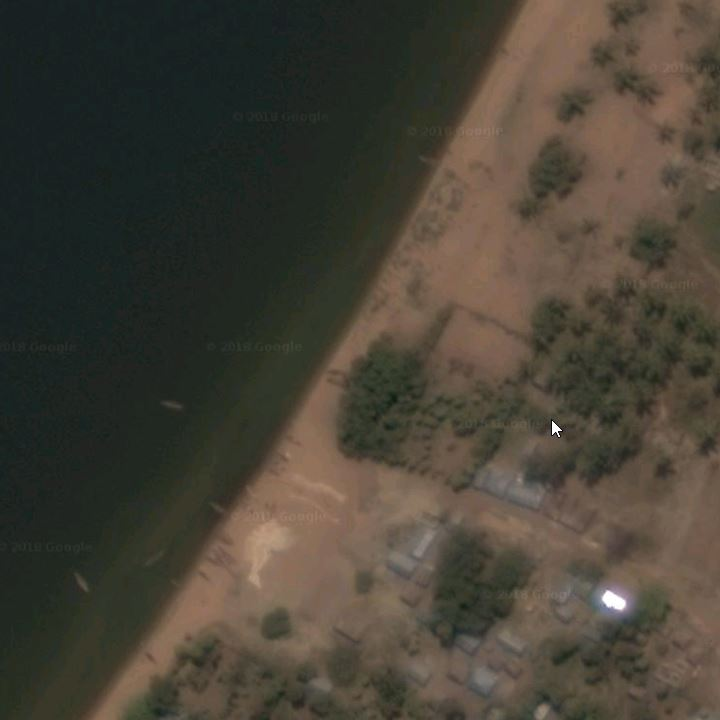boat: (138, 545, 171, 574), (69, 569, 97, 599), (199, 496, 233, 519), (412, 151, 447, 173), (210, 523, 237, 549), (209, 546, 233, 571), (152, 398, 192, 413), (203, 553, 229, 573), (325, 375, 353, 393), (217, 543, 240, 564), (283, 432, 309, 450), (324, 367, 355, 381), (194, 569, 216, 587)
